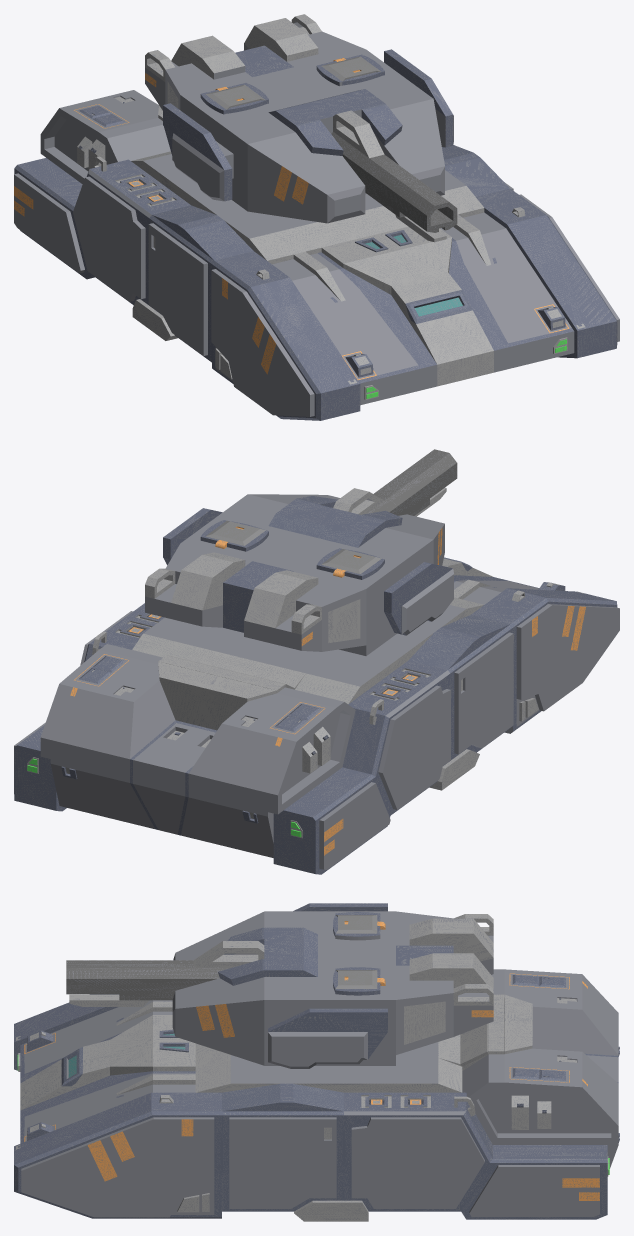
The model's file is hovtank.dae.
3 renders of one model, top to bottom at view 1: azimuth 30°, elevation 25°; view 2: azimuth 150°, elevation 25°; view 3: azimuth 270°, elevation 25°, orthographic. The views are drawn at different scales.
Visible parts, largest first — view 1: hul (×14), turret (×9), turret_1 (×7); view 2: hul (×15), turret (×9), turret_1 (×6); view 3: hul (×19), turret_1 (×11), turret (×7).
Boxes of the visible parts, x1=… form: hul (×14): x1=14, y1=90, x2=619, y2=420; turret (×9): x1=145, y1=35, x2=441, y2=232; turret_1 (×7): x1=244, y1=18, x2=457, y2=230; hul (×15): x1=14, y1=558, x2=619, y2=874; turret (×9): x1=244, y1=451, x2=457, y2=655; turret_1 (×6): x1=145, y1=494, x2=339, y2=632; hul (×19): x1=14, y1=969, x2=618, y2=1221; turret_1 (×11): x1=66, y1=944, x2=493, y2=1068; turret (×7): x1=66, y1=903, x2=493, y2=974.
Bounding box in the file's own units: 192 × 333 × 124.
